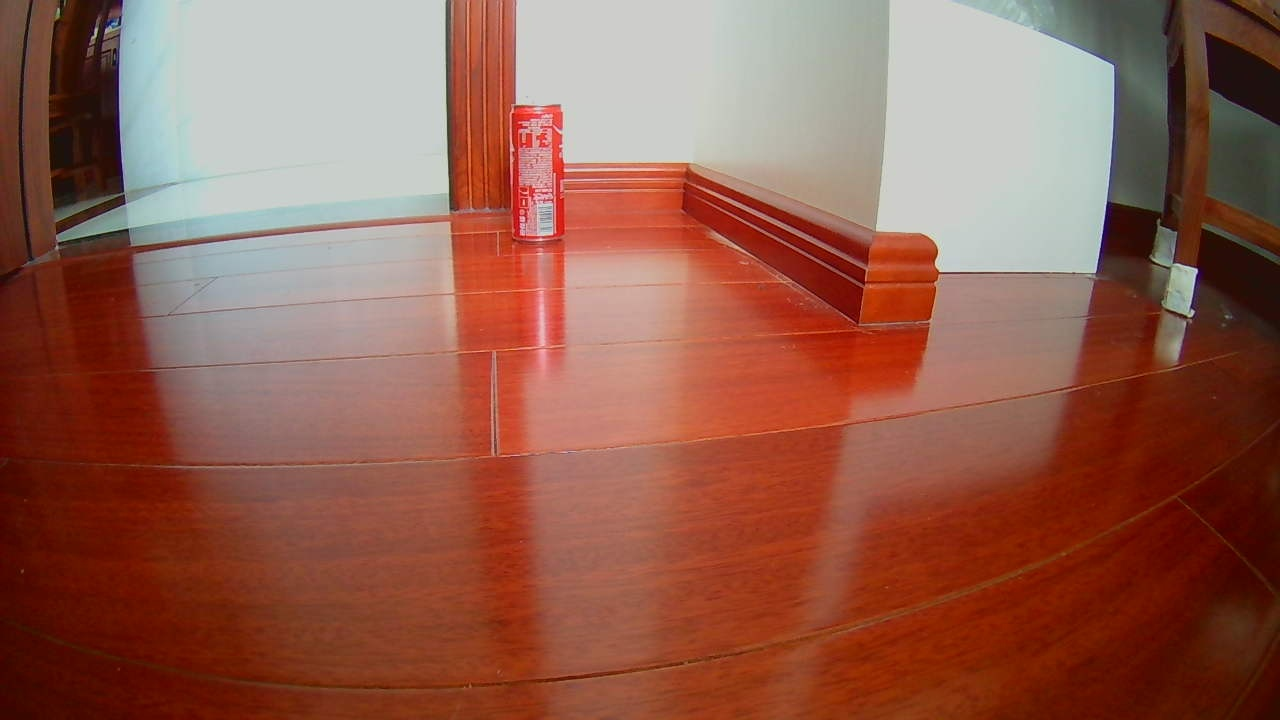cola: (509, 110, 569, 247)
